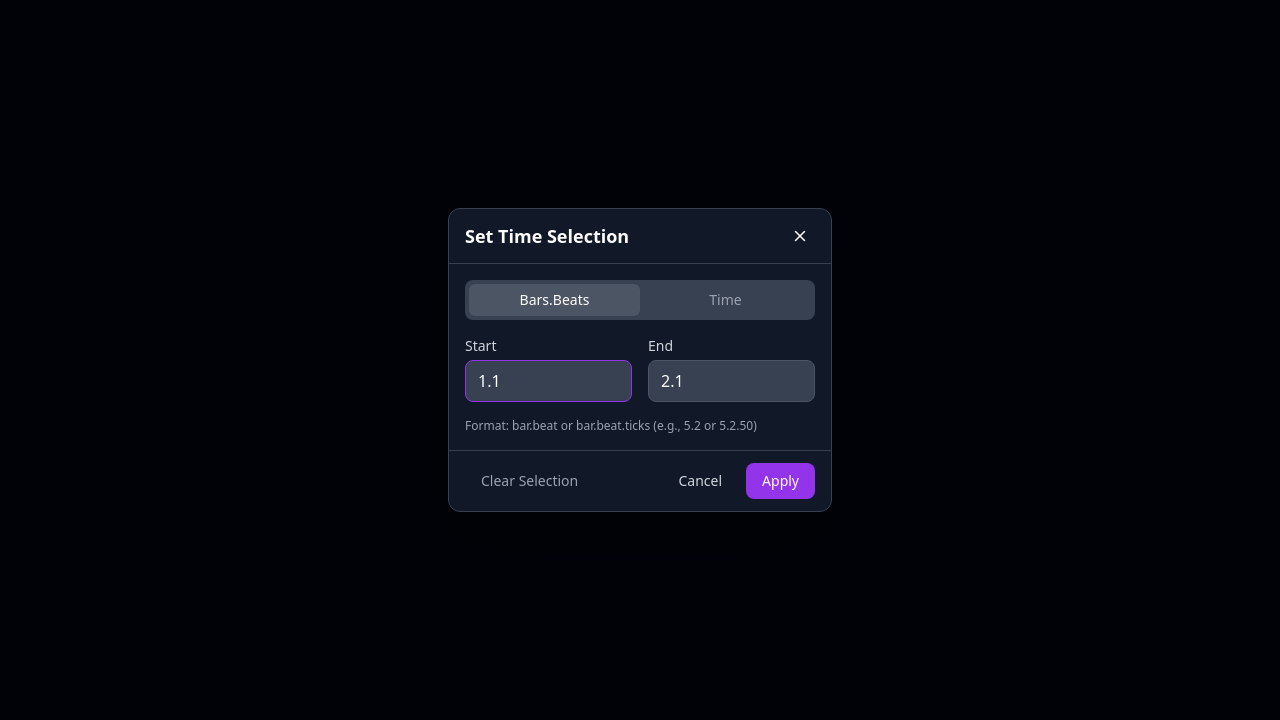
MakeSelectionModal › refuses text that is not a bar position, without asking REAPER
In the field below "End": coordinates (732, 381) [648,360,815,402], type "soon"
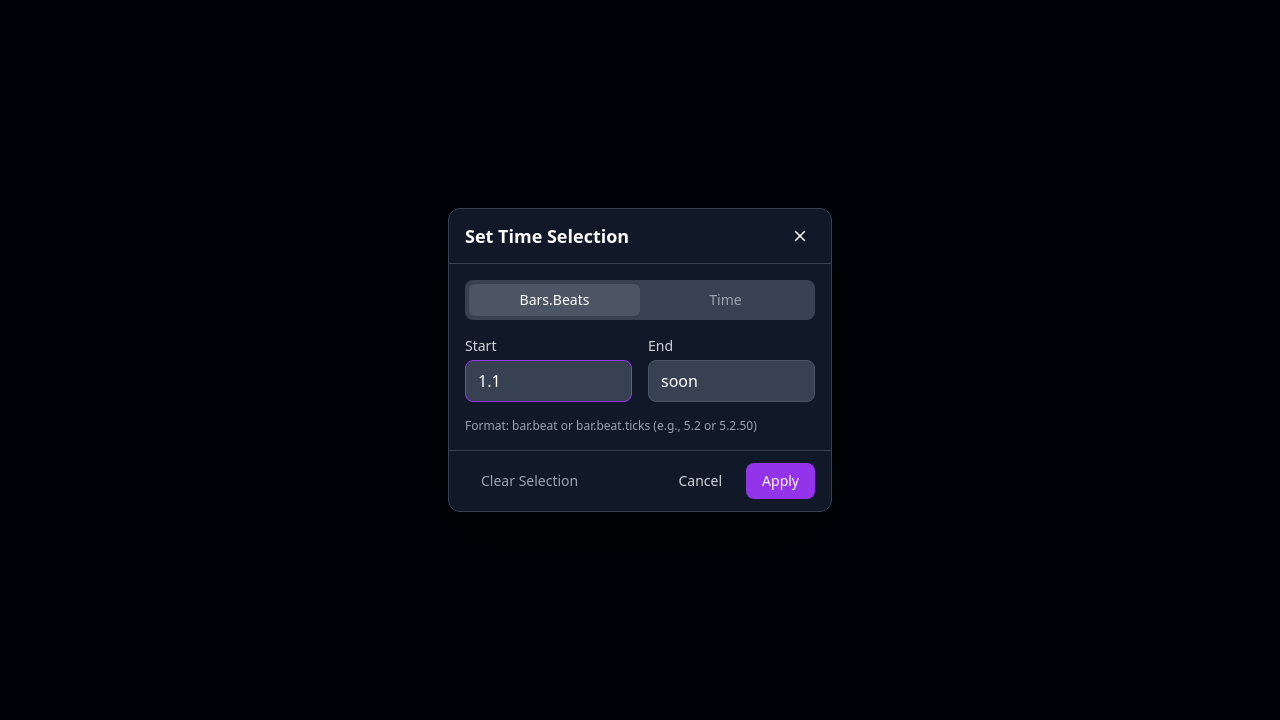
Click the button "Apply": coordinates (781, 481) [746,463,815,499]
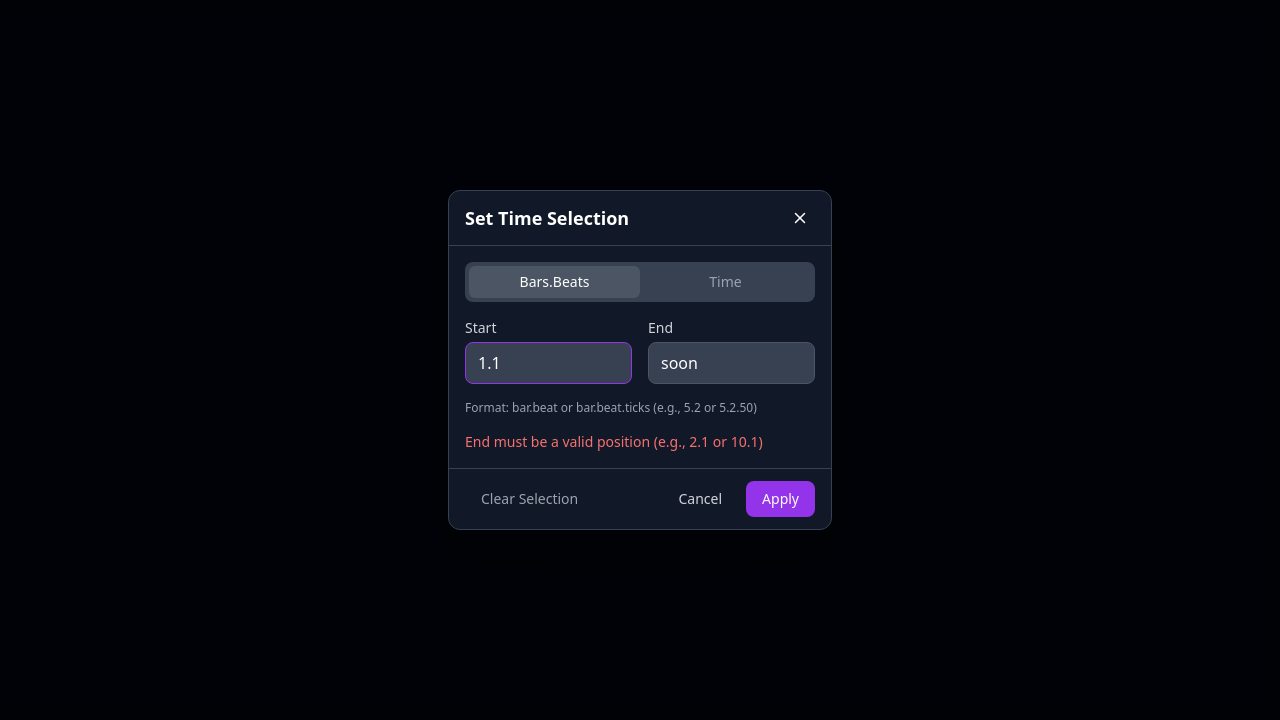
Now the text "End must be a valid position (e.g., 2.1 or 10.1)" is shown, box [465,432,815,452]
